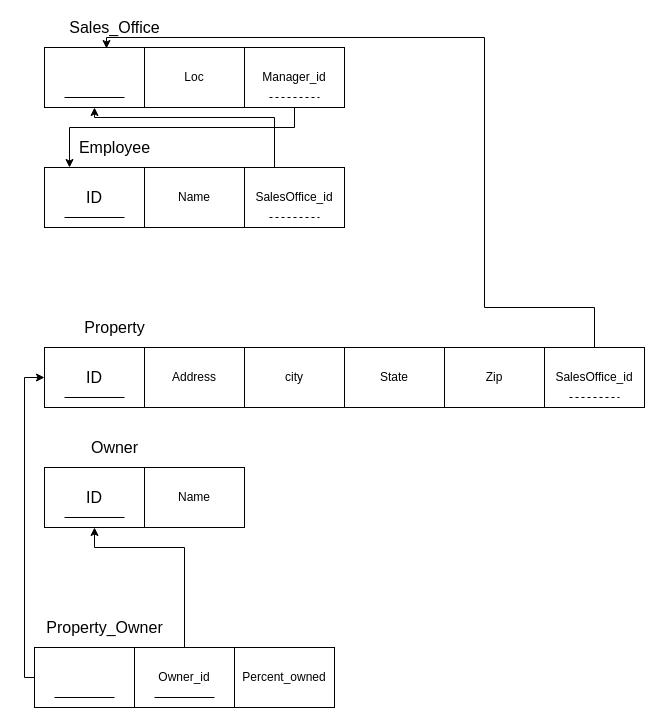
Some shapes in this 662 by 726 pixel diagram are drawn without their labels. Here are the shapes that lost their labels. From the top down, the centre of each, then its label:
(94,77): Num
(84,677): Property_id
